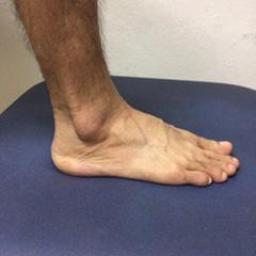Lateral View -Right Foot-: (38, 76, 246, 199)
